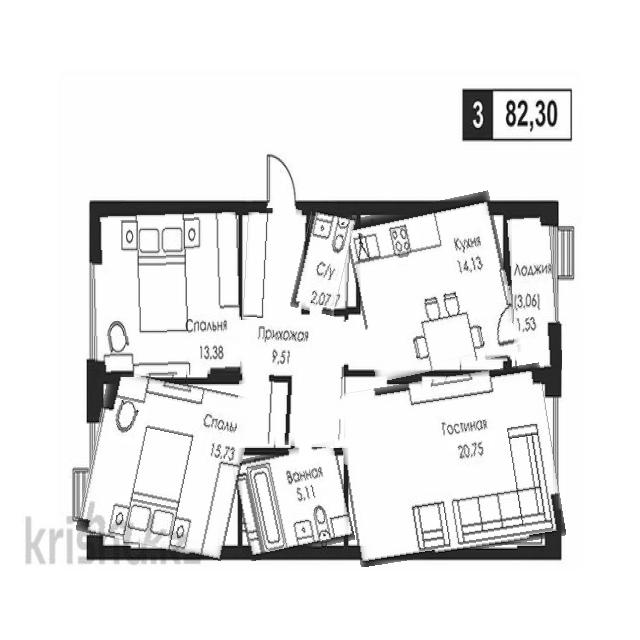balcony: (507, 213, 560, 373)
bathroom: (235, 445, 351, 557), (294, 207, 350, 315)
hallway: (238, 211, 347, 448)
kitchen: (350, 197, 515, 376)
living_room: (340, 369, 560, 560), (83, 375, 248, 555), (92, 206, 241, 377)
